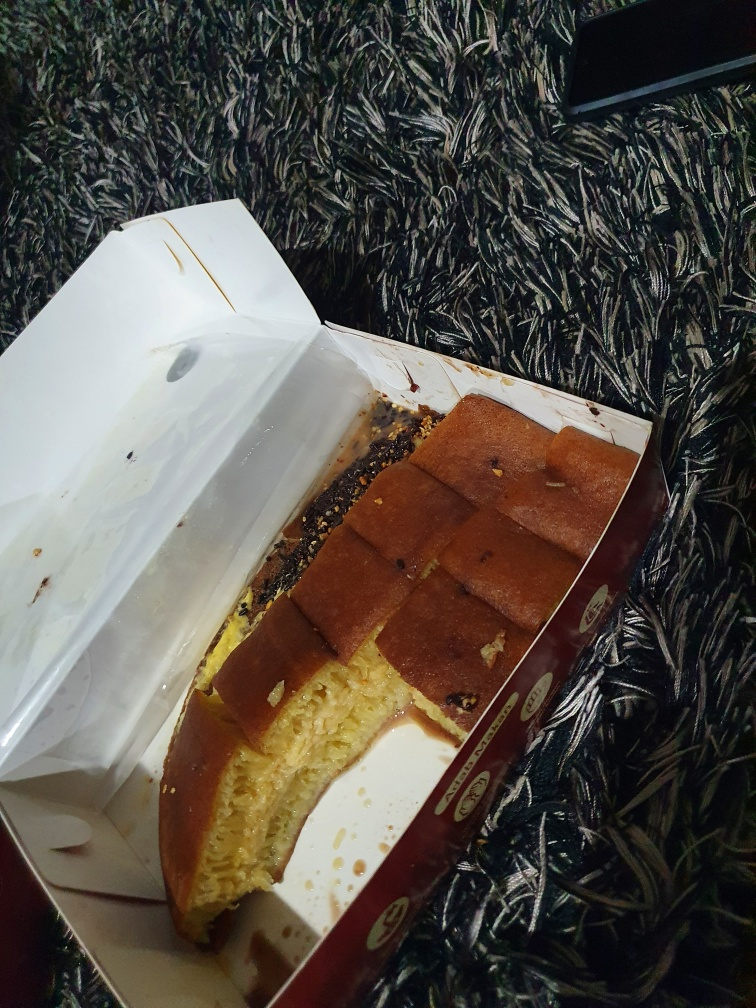martabak manis: (109, 701, 328, 926), (355, 561, 512, 726), (201, 630, 372, 761), (490, 397, 644, 542), (281, 529, 409, 658), (434, 499, 574, 608), (417, 372, 543, 492), (337, 464, 469, 558)
